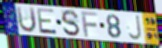8: (106, 14, 123, 39)
E: (36, 7, 58, 36)
F: (80, 11, 100, 38)
J: (127, 14, 143, 41)
S: (60, 9, 81, 37)
U: (15, 6, 38, 35)
